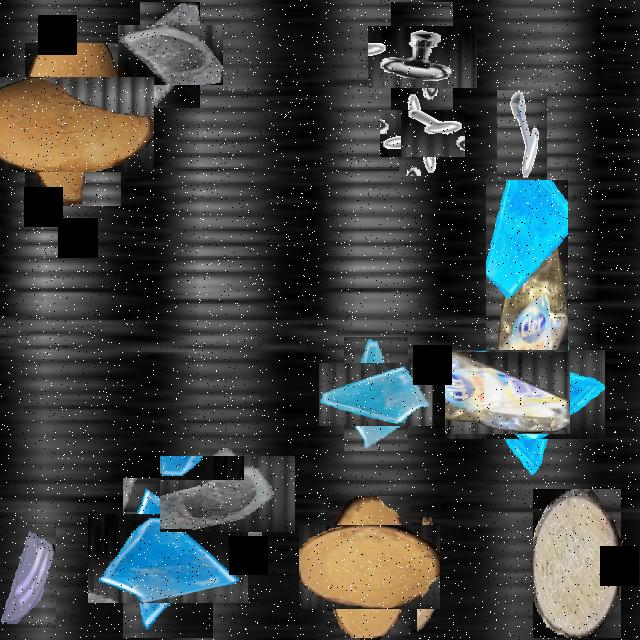glass: (462, 332, 588, 457), (106, 496, 230, 620), (174, 441, 280, 547), (332, 350, 421, 439), (128, 13, 212, 97), (0, 524, 56, 628)
metal: (379, 14, 465, 100), (497, 90, 547, 180), (390, 100, 456, 167)
plastic: (486, 180, 568, 439)
wood: (8, 60, 138, 189), (533, 489, 621, 638), (312, 511, 426, 624), (417, 518, 439, 638)
